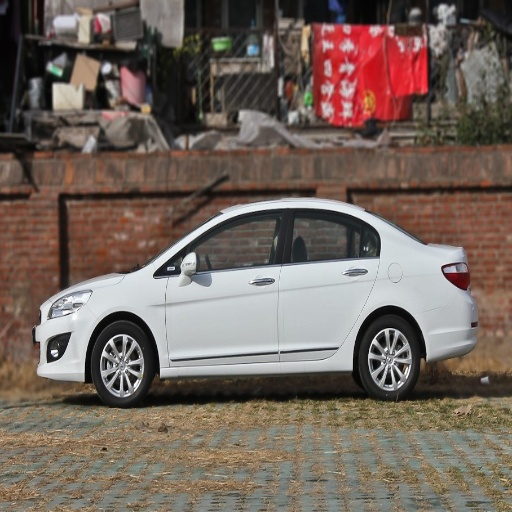back_left_door: (279, 208, 382, 359)
front_left_door: (163, 209, 286, 362)
